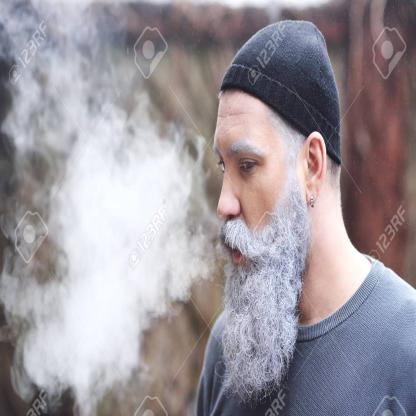person: (198, 21, 416, 416)
smoke: (26, 110, 198, 395), (0, 0, 96, 156)
